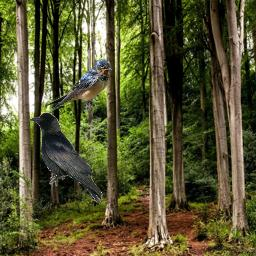Crow: (28, 112, 103, 204)
Swallow: (44, 59, 112, 116)
